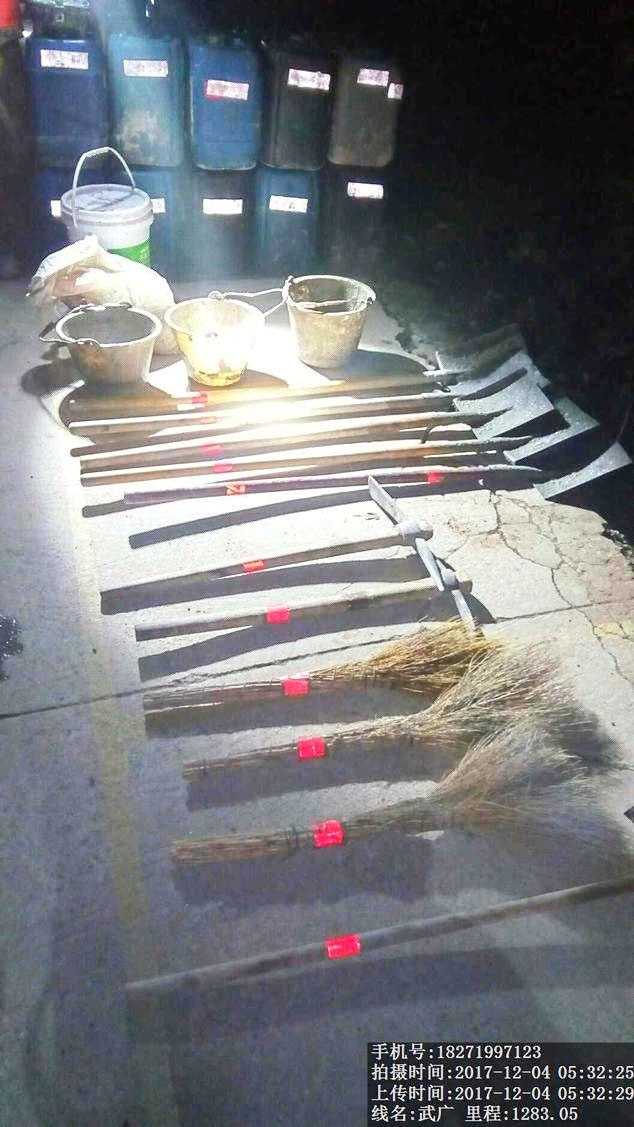SB: (162, 738, 574, 887), (135, 626, 484, 718)
SNT: (44, 302, 158, 392), (164, 296, 264, 392), (286, 268, 373, 373)
